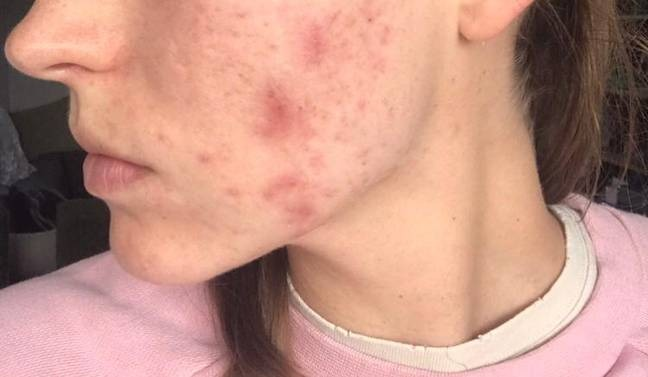Acne: (234, 9, 365, 223)
